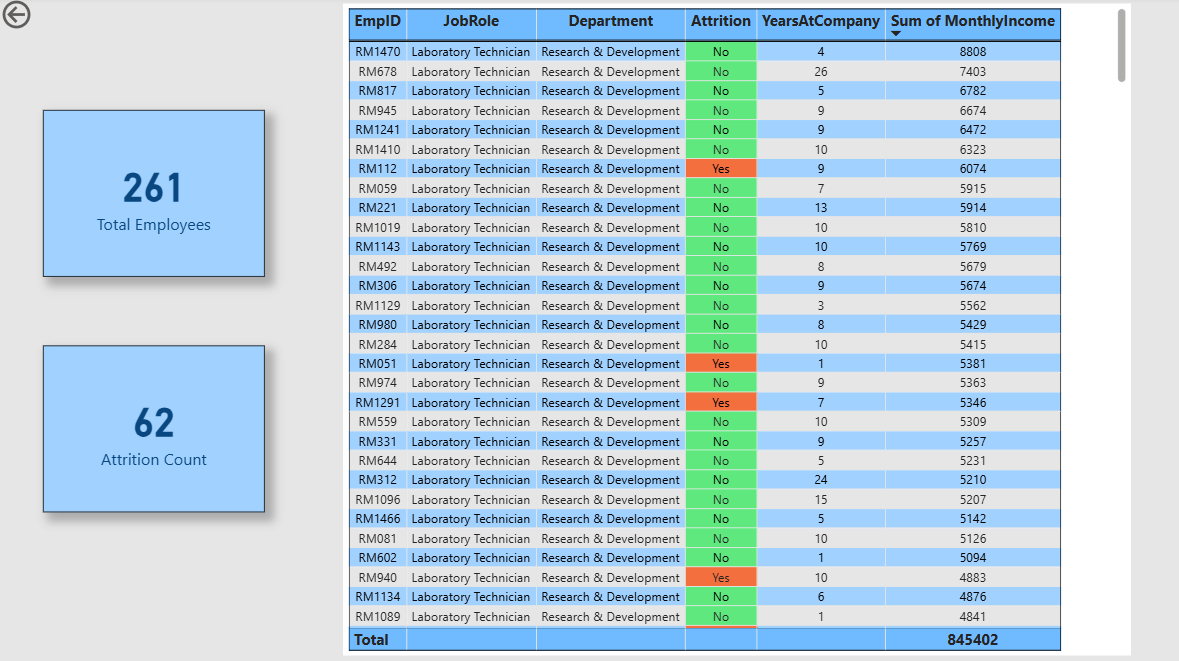

This screenshot's page, from the dashboard's own definition file:
{"tool":"powerbi","page":{"name":"Employee Details ","canvas":[1280,720],"ordinal":3},"visuals":[{"type":"actionButton","box":[0,0,100,40],"z":0},{"type":"tableEx","fields":{"Values":["Fact_Employee.EmpID","Dim_Job.JobRole","Dim_Job.Department","Fact_Employee.Attrition","Fact_Employee.YearsAtCompany","Sum(Fact_Employee.MonthlyIncome)"]},"box":[371.7,8.3,850,703.3],"z":1000},{"type":"card","fields":{"Values":["Dim_Education.Total Employees"]},"box":[49,123.7,239.2,180.2],"z":4000},{"type":"card","fields":{"Values":["Dim_Education.Attrition Count"]},"box":[49,376.5,239.2,180.2],"z":5000}]}

Visuals, with their boxes on the page's 1280x720 design canvas (x1, y1, x2, y2). These are canvas units, not pixel positions in the 1179x661 screenshot, which may show the page scaled, cropped or inside an application window:
actionButton: bbox(0, 0, 100, 40)
tableEx - Fact_Employee.EmpID x Dim_Job.JobRole: bbox(372, 8, 1222, 712)
card - Dim_Education.Total Employees: bbox(49, 124, 288, 304)
card - Dim_Education.Attrition Count: bbox(49, 376, 288, 557)
